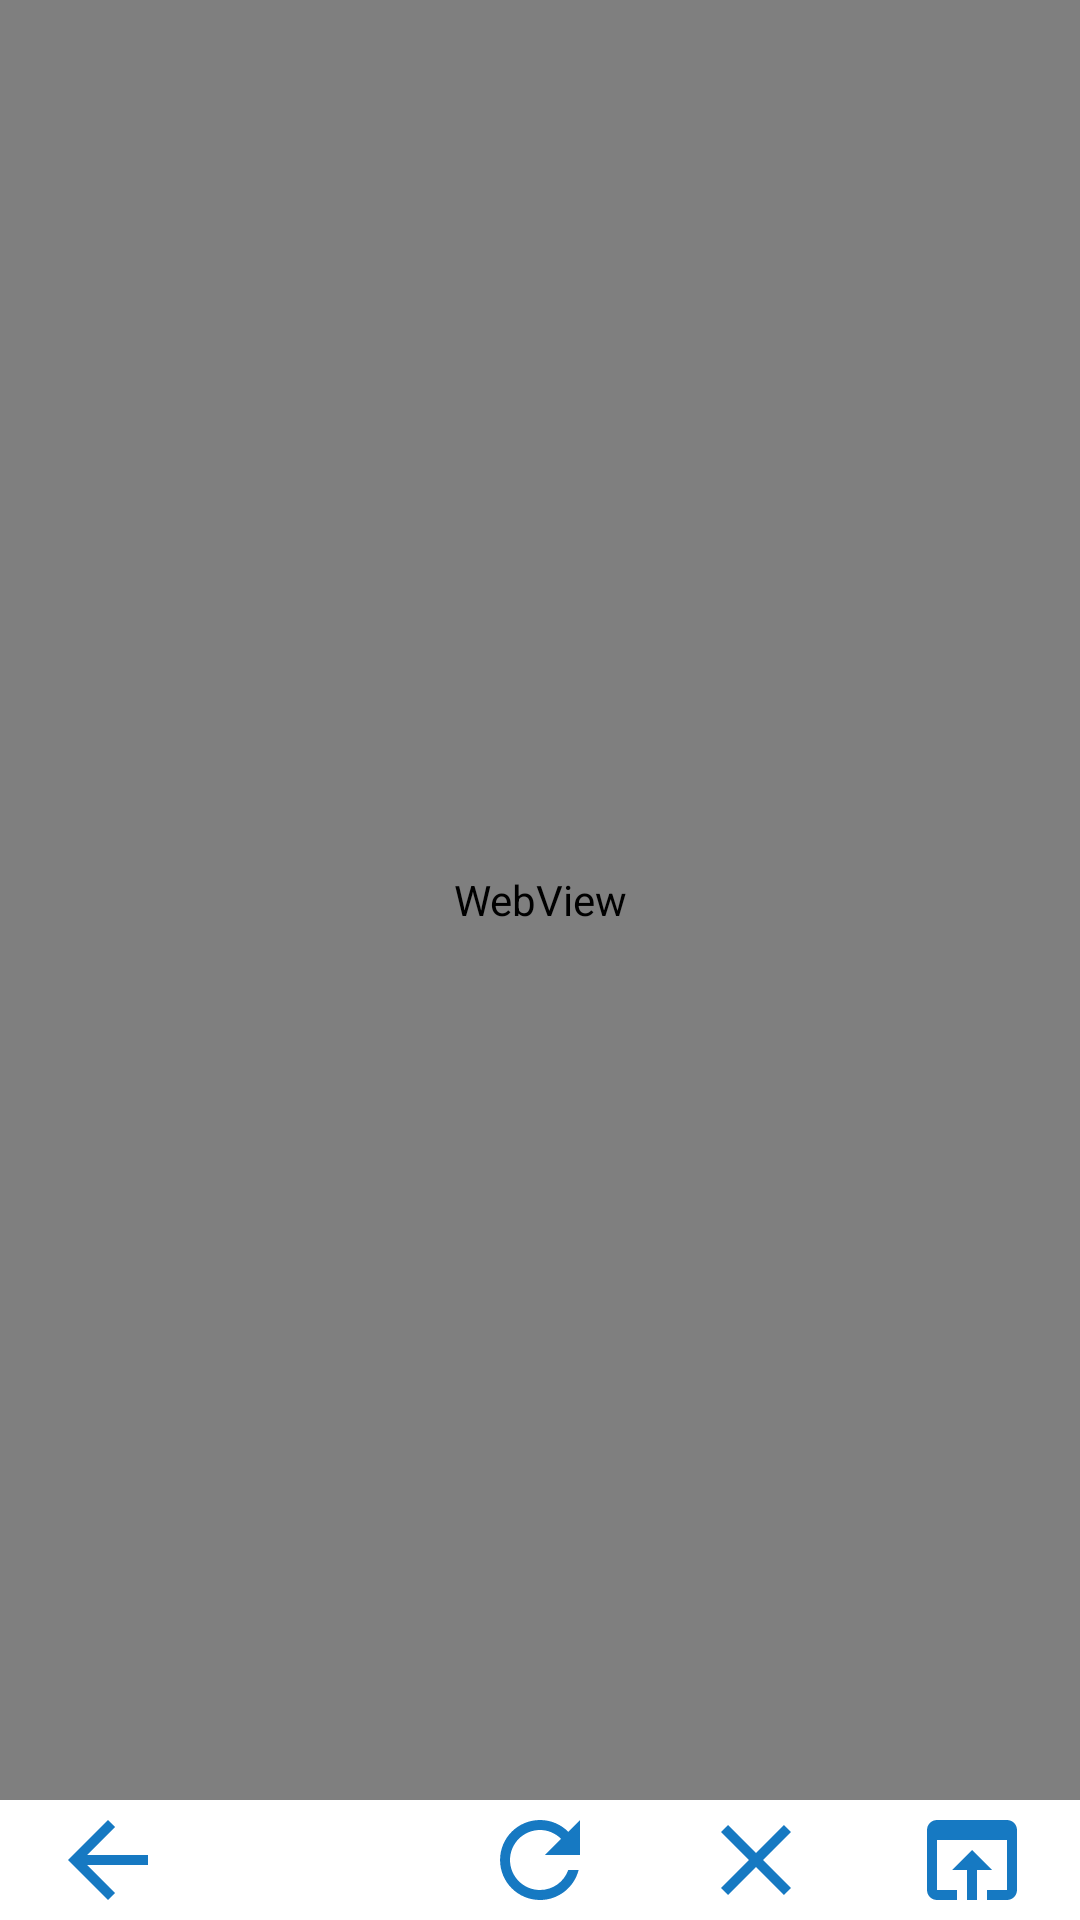

Locate icon controls on the screen. Image size 1080 × 1920, boxes as [x1=x1, y1=y1, x2=x2, y2=y2].
arrow back: [x1=68, y1=1820, x2=148, y2=1900]
clear: [x1=721, y1=1825, x2=791, y2=1895]
open in browser: [x1=927, y1=1820, x2=1017, y2=1900]
refresh: [x1=500, y1=1820, x2=580, y2=1900]
